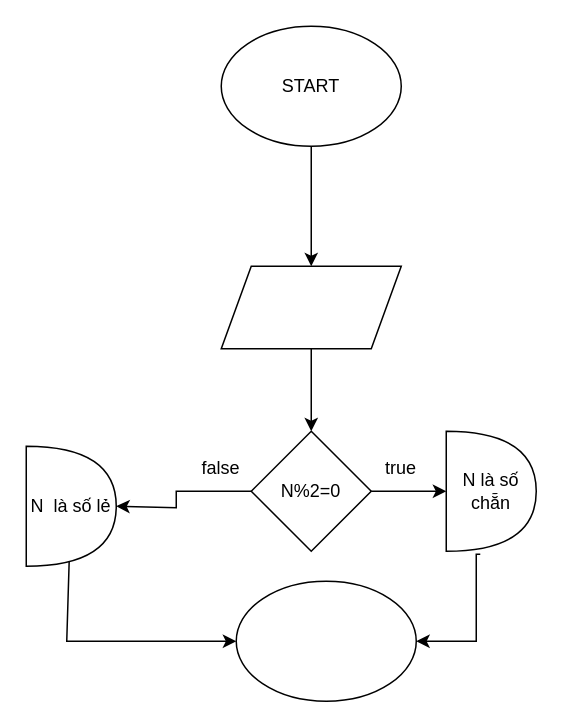
Image size: 563x728. Some labels were removed from this diagram. The shapes that lost their labels are listed below. From the top down, each one's centre as x and y in pixels, then its label:
the point at 310,307: input N
the point at 325,640: END
